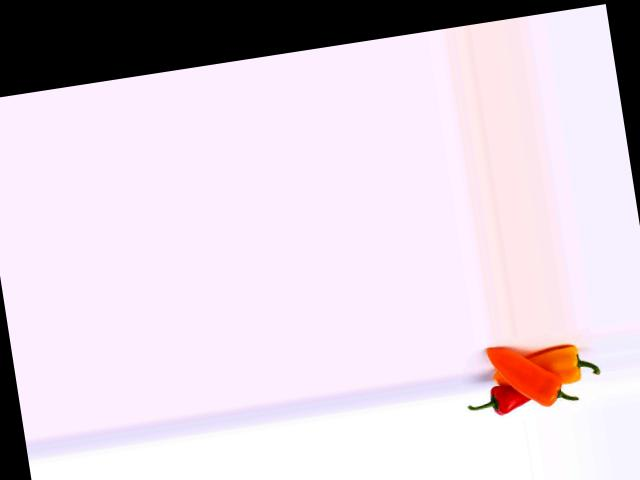bell_pepper: (515, 333, 604, 394)
